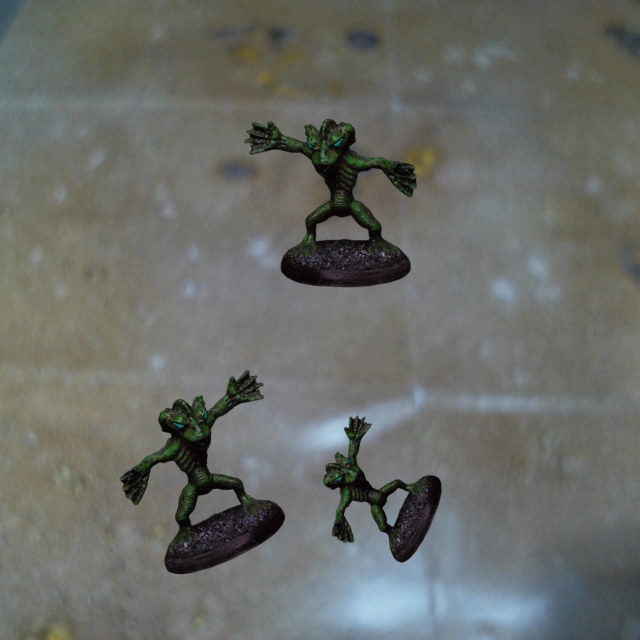pieza_juego: (120, 370, 284, 573), (244, 119, 416, 287), (323, 415, 441, 562)
